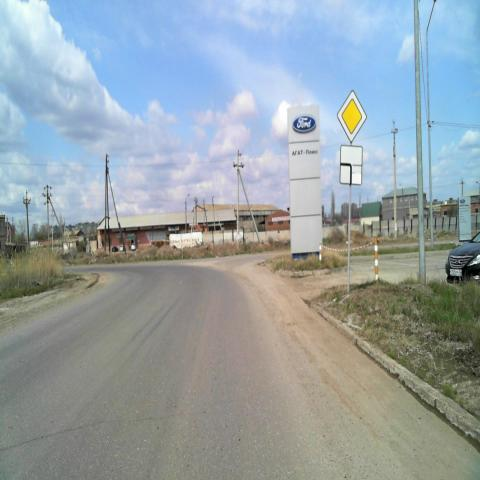8_13: (338, 143, 363, 185)
